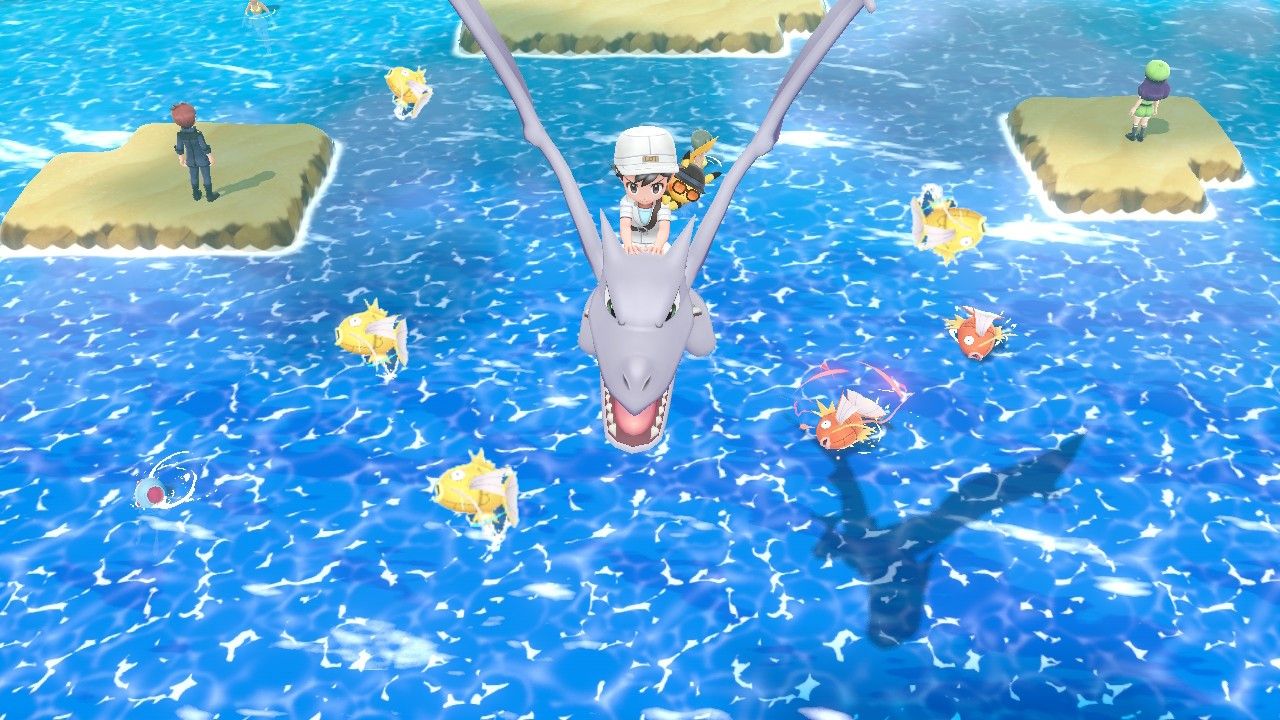Golden: (424, 446, 526, 529), (906, 182, 988, 263), (328, 300, 411, 369), (383, 62, 434, 122)
Red: (806, 393, 890, 452), (944, 304, 1009, 363)
